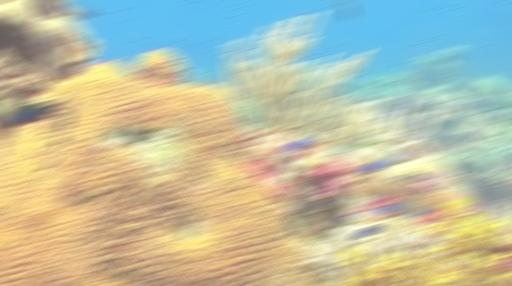Fish: (10, 101, 53, 124), (357, 155, 400, 173), (285, 138, 310, 154), (68, 5, 95, 19), (339, 0, 356, 20), (353, 226, 380, 238), (375, 204, 404, 214), (362, 195, 377, 209), (411, 208, 426, 217), (340, 214, 355, 222)
